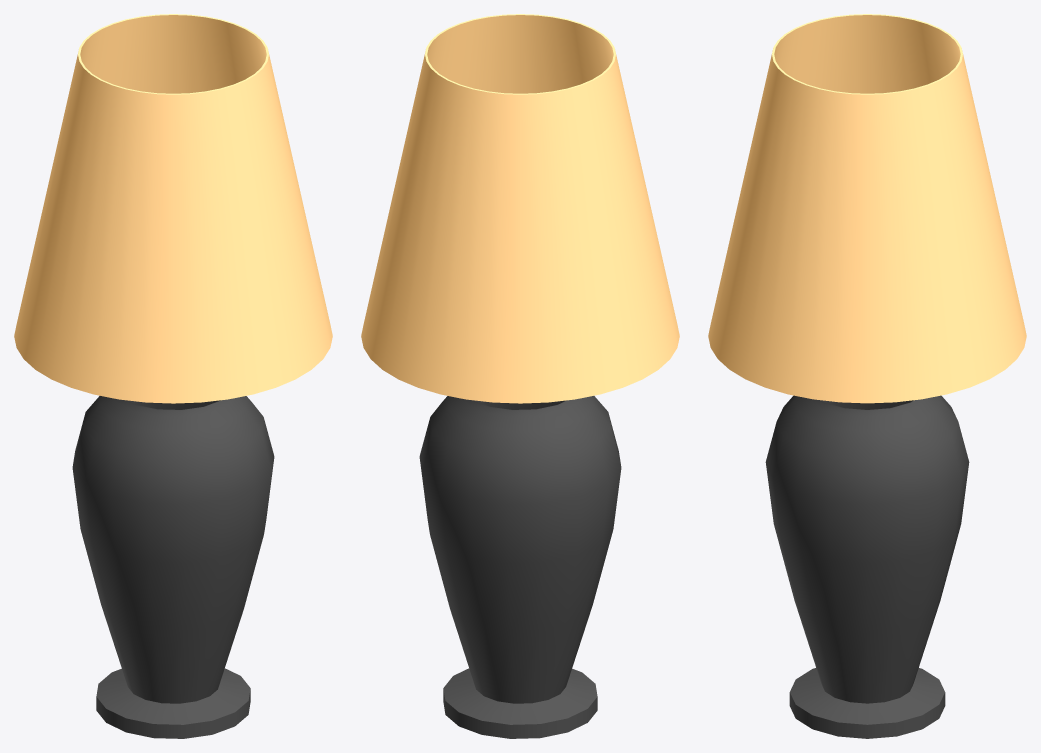
File: Table_Lamp_TallBase_ConeShade.fbx
3 views of the same model, side by side, from view 1: azimuth 30°, elevation 25°; view 2: azimuth 150°, elevation 25°; view 3: azimuth 270°, elevation 25° (orthographic).
Parts seen in each view (by area): view 1: Table_Lamp_TallBase_ConeShade; view 2: Table_Lamp_TallBase_ConeShade; view 3: Table_Lamp_TallBase_ConeShade.
Part boxes in pixels (x1,y1,x2,y2): Table_Lamp_TallBase_ConeShade: (14, 14, 332, 738); Table_Lamp_TallBase_ConeShade: (361, 14, 679, 738); Table_Lamp_TallBase_ConeShade: (708, 14, 1026, 738).
Size of the model in its own units: 30.75 by 69.41 by 30.75.
